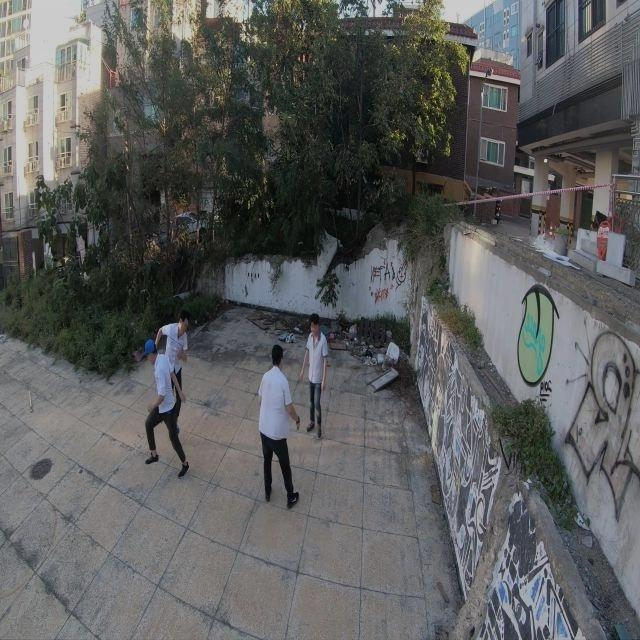fight: (253, 307, 329, 509)
non-fight: (143, 313, 192, 478)
